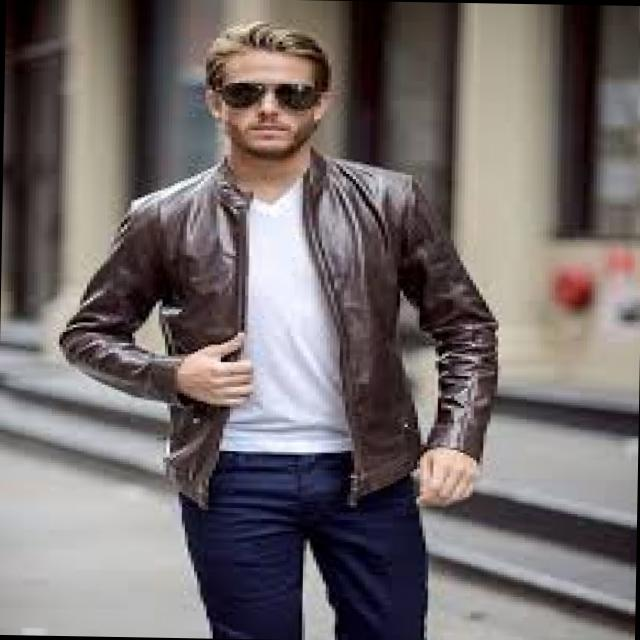Jacket: (74, 147, 504, 536)
